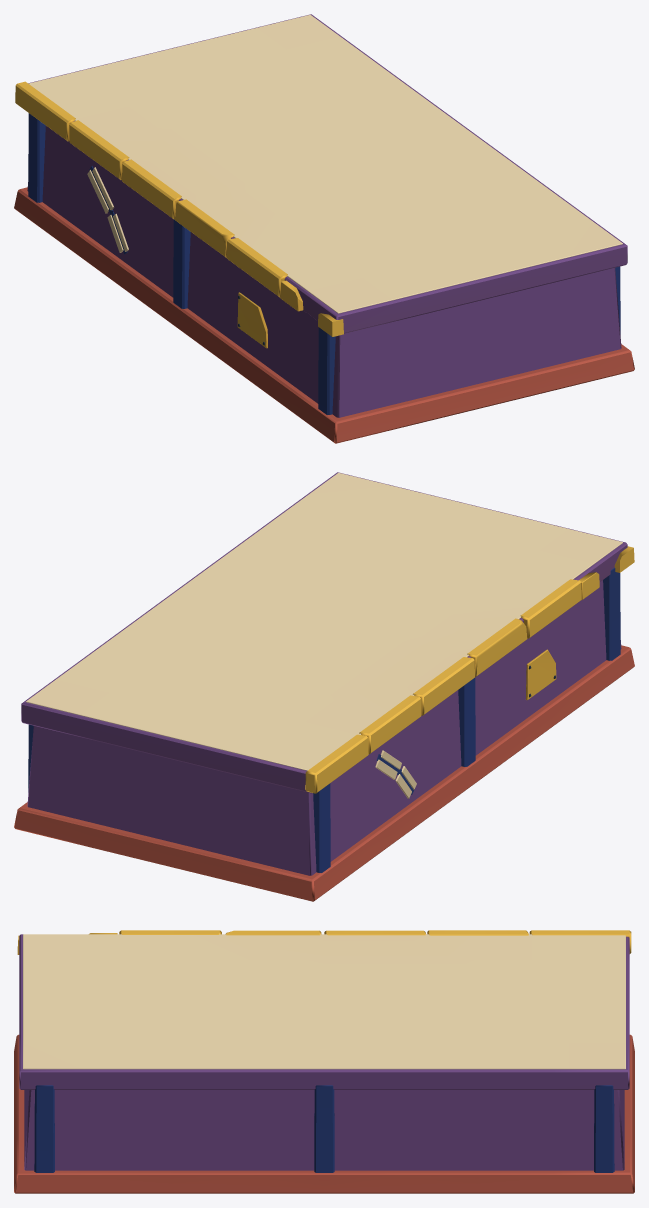
The model's file is station_foundation.glb.
3 renders of one model, top to bottom at view 1: azimuth 30°, elevation 25°; view 2: azimuth 150°, elevation 25°; view 3: azimuth 270°, elevation 25°, orthographic. The views are drawn at different scales.
Parts seen in each view (by area): view 1: station_foundation; view 2: station_foundation; view 3: station_foundation.
Part boxes in pixels (left/top/right/bottom): station_foundation: left=14, top=14, right=634, bottom=443; station_foundation: left=14, top=472, right=634, bottom=901; station_foundation: left=14, top=930, right=634, bottom=1193.
Size of the model in its own units: 5.53 by 2.23 by 10.21.
